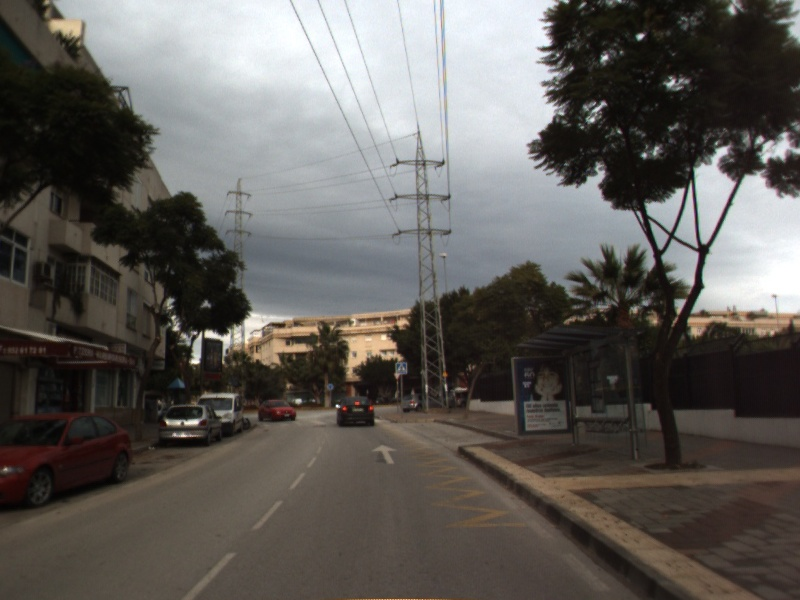STRAIGHT: (369, 442, 401, 466)
